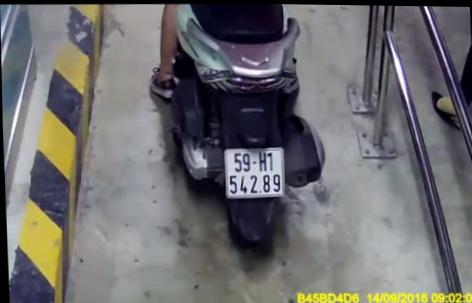LP: (220, 144, 286, 199)
